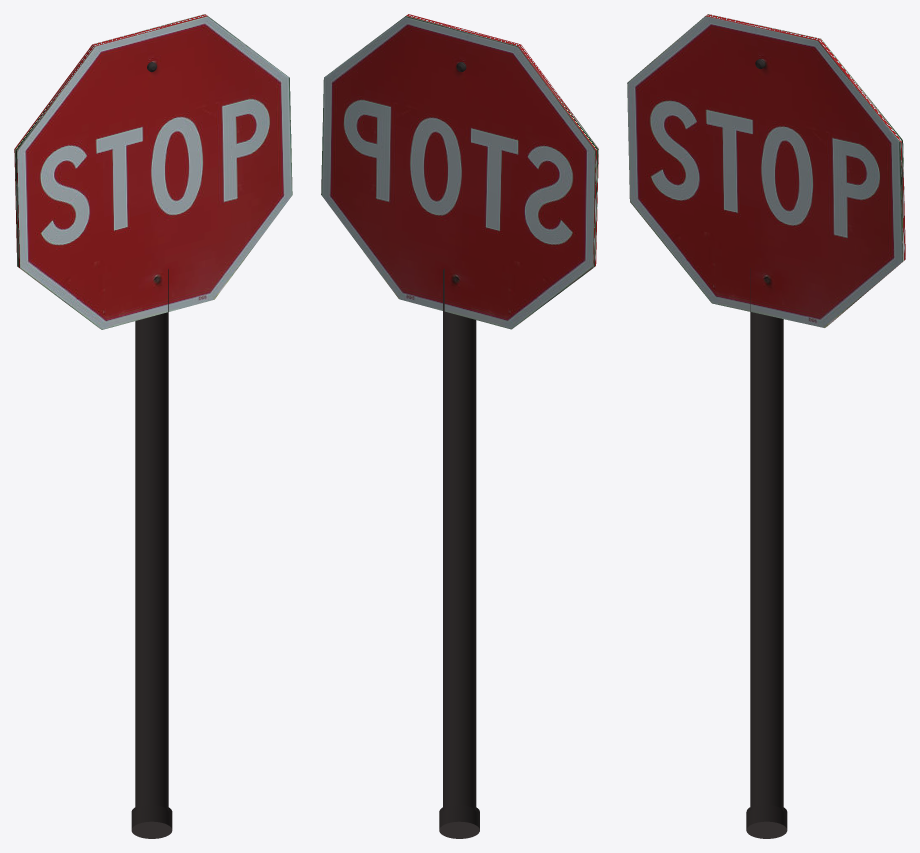
The model's file is Stop_Sign.fbx.
3 renders of one model, left to right at view 1: azimuth 30°, elevation 25°; view 2: azimuth 150°, elevation 25°; view 3: azimuth 330°, elevation 25°, orthographic.
Visible parts, largest first — view 1: Stop_Sign.002, Metal_Pole.002; view 2: Stop_Sign.002, Metal_Pole.002; view 3: Stop_Sign.002, Metal_Pole.002.
Boxes of the visible parts, bbox=[...] form: Stop_Sign.002: bbox=[14, 14, 292, 329]; Metal_Pole.002: bbox=[131, 269, 172, 838]; Stop_Sign.002: bbox=[321, 14, 598, 329]; Metal_Pole.002: bbox=[439, 268, 479, 838]; Stop_Sign.002: bbox=[627, 14, 905, 327]; Metal_Pole.002: bbox=[746, 268, 787, 838].
Size of the model in its own units: 134 by 373 by 17.19.
2 materials, 1 textured.
